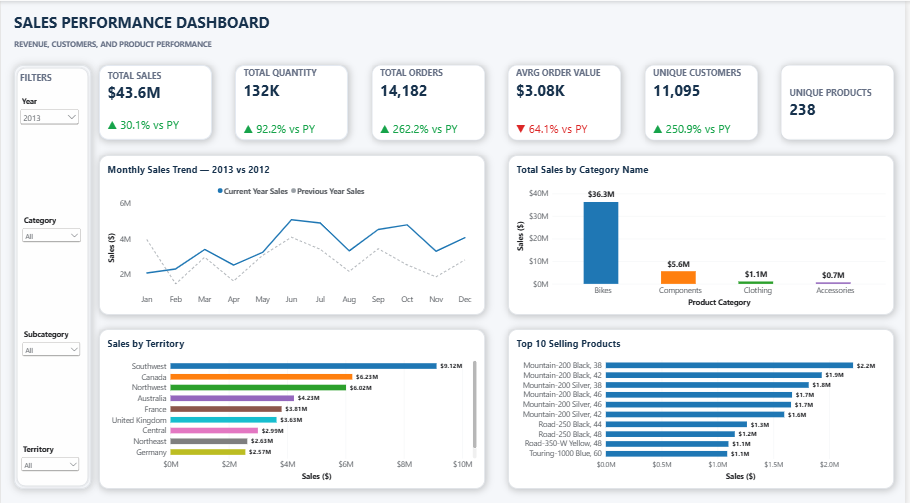

The dashboard page shown, as its layout file describes it:
{"tool":"powerbi","page":{"name":"Page 1","canvas":[1920,1080],"ordinal":0},"visuals":[{"type":"shape","title":"FILTERS","box":[27.6,134,174.4,912.2],"z":0},{"type":"cardVisual","title":"Total Sales","fields":{"Data":["FactSales.Total Sales","FactSales.Sales YoY Indicator"]},"box":[223.3,134,235,150],"z":1000},{"type":"cardVisual","title":"TOTAL QUANTITY","fields":{"Data":["FactSales.Total Quantity","FactSales.Quantity YoY Indicator"]},"box":[511.1,135.4,235,150],"z":2000},{"type":"cardVisual","fields":{"Data":["FactSales.Total Orders","FactSales.Orders YoY Indicator"]},"box":[799,135.4,235,150],"z":3000},{"type":"cardVisual","fields":{"Data":["FactSales.Average Order Value","FactSales.AOV YoY Indicator"]},"box":[1086.9,135.4,235,150],"z":4000},{"type":"cardVisual","fields":{"Data":["FactSales.Distinct Customers","FactSales.Customers YoY Indicator"]},"box":[1374.8,135.4,235,150],"z":5000},{"type":"cardVisual","fields":{"Data":["FactSales.Distinct Products"]},"box":[1662.7,136.1,235,150],"z":6000},{"type":"lineChart","fields":{"Category":["DimDate.Month Short Name"],"Y":["FactSales.Current Year Sales","FactSales.Previous Year Sales"]},"box":[223.3,308.3,812.2,359],"z":7000},{"type":"slicer","fields":{"Values":["DimProduct.CategoryName"]},"box":[46.8,446.8,134,85],"z":8000},{"type":"slicer","fields":{"Values":["DimProduct.SubcategoryName"]},"box":[47.4,650.2,133.3,86.2],"z":9000},{"type":"slicer","fields":{"Values":["DimTerritory.Name"]},"box":[44.7,854.8,133.3,80],"z":10000},{"type":"clusteredBarChart","title":"Total Sales by Territory","fields":{"Category":["DimTerritory.TerritoryName"],"Y":["FactSales.Total Sales"]},"box":[223.3,686.8,812.2,359.3],"z":11000},{"type":"clusteredBarChart","title":"Total Sales by Product","fields":{"Category":["DimProduct.Name"],"Y":["FactSales.Total Sales"]},"box":[1086.5,686.8,812.2,359.3],"z":12000},{"type":"textbox","box":[41,14.4,594.9,61.5],"z":13000},{"type":"textbox","box":[41,75.9,547.7,59.5],"z":14000},{"type":"clusteredColumnChart","title":"Total Sales by Category ","fields":{"Category":["DimProduct.CategoryName"],"Y":["FactSales.Total Sales"]},"box":[1086.5,308.3,812.2,359],"z":15000},{"type":"slicer","fields":{"Values":["DimDate.Year"]},"box":[42.5,240.3,133.3,88.2],"z":16000},{"type":"textbox","box":[40.4,159.5,134,48.9],"z":17000}]}

Visuals, with their boxes in screenshot pixels (x1, y1, x2, y2), scaled from the page's 1920x1080 canvas onto the 910x503 screenshot:
"FILTERS" shape: (x1=13, y1=62, x2=96, y2=487)
"Total Sales" cardVisual: (x1=106, y1=62, x2=217, y2=132)
"TOTAL QUANTITY" cardVisual: (x1=242, y1=63, x2=354, y2=133)
cardVisual - FactSales.Total Orders x FactSales.Orders YoY Indicator: (x1=379, y1=63, x2=490, y2=133)
cardVisual - FactSales.Average Order Value x FactSales.AOV YoY Indicator: (x1=515, y1=63, x2=627, y2=133)
cardVisual - FactSales.Distinct Customers x FactSales.Customers YoY Indicator: (x1=652, y1=63, x2=763, y2=133)
cardVisual - FactSales.Distinct Products: (x1=788, y1=63, x2=899, y2=133)
lineChart - DimDate.Month Short Name x FactSales.Current Year Sales: (x1=106, y1=144, x2=491, y2=311)
slicer - DimProduct.CategoryName: (x1=22, y1=208, x2=86, y2=248)
slicer - DimProduct.SubcategoryName: (x1=22, y1=303, x2=86, y2=343)
slicer - DimTerritory.Name: (x1=21, y1=398, x2=84, y2=435)
"Total Sales by Territory" clusteredBarChart: (x1=106, y1=320, x2=491, y2=487)
"Total Sales by Product" clusteredBarChart: (x1=515, y1=320, x2=900, y2=487)
textbox: (x1=19, y1=7, x2=301, y2=35)
textbox: (x1=19, y1=35, x2=279, y2=63)
"Total Sales by Category " clusteredColumnChart: (x1=515, y1=144, x2=900, y2=311)
slicer - DimDate.Year: (x1=20, y1=112, x2=83, y2=153)
textbox: (x1=19, y1=74, x2=83, y2=97)
